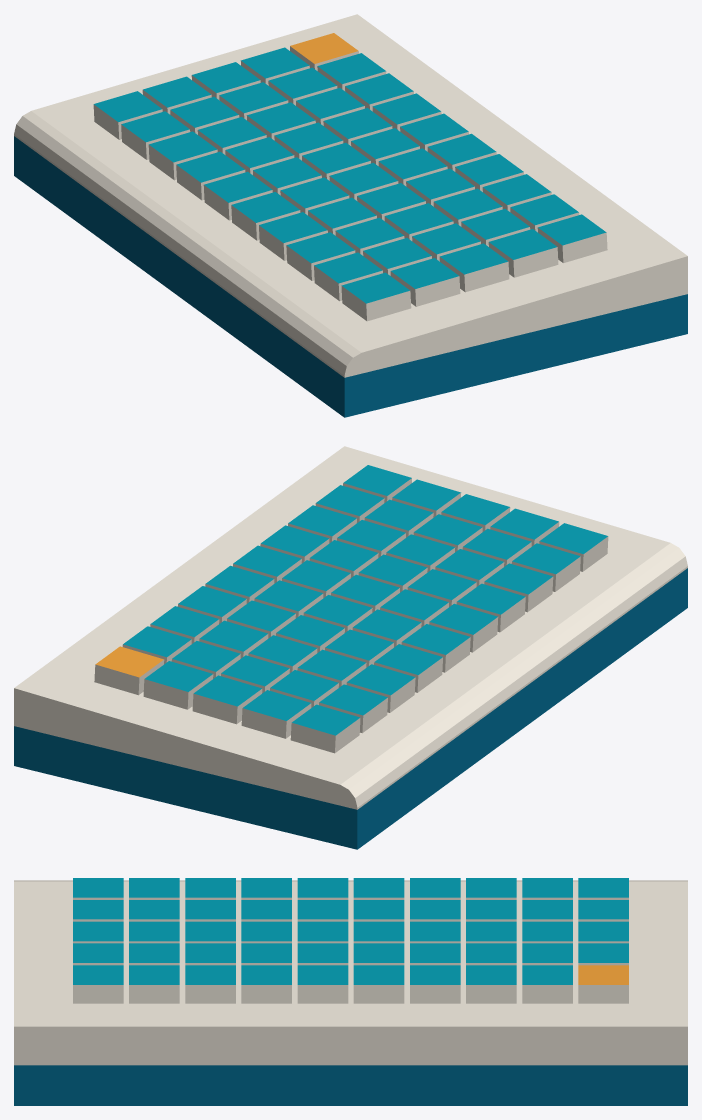
The model's file is G01_006_Keyboard.fbx.
3 views of the same model, one above another, from view 1: azimuth 30°, elevation 25°; view 2: azimuth 150°, elevation 25°; view 3: azimuth 270°, elevation 25° (orthographic).
Visible parts, largest first — view 1: 立方体.082; view 2: 立方体.082; view 3: 立方体.082.
Boxes of the visible parts, x1=… form: 立方体.082: x1=14, y1=14, x2=687, y2=417; 立方体.082: x1=14, y1=446, x2=687, y2=849; 立方体.082: x1=14, y1=878, x2=687, y2=1105.
Bounding box in the file's own units: 45 × 11.66 × 75.
